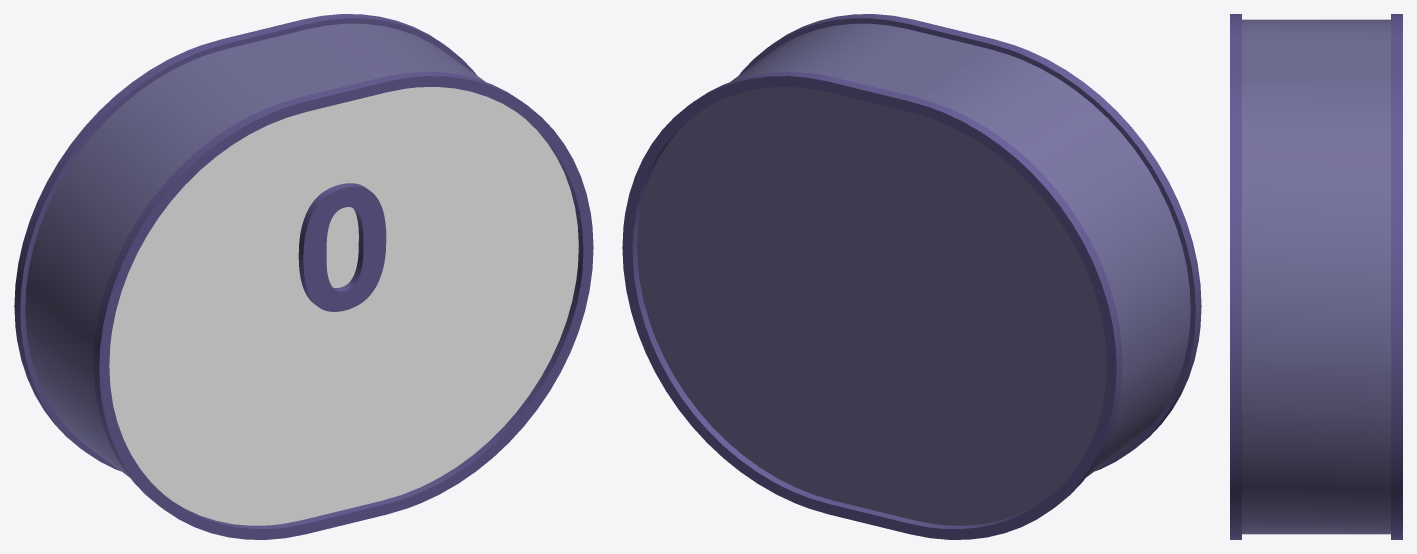
The model's file is math_number.gltf.
The picture shows the model from 3 angles, left to right: view 1: azimuth 30°, elevation 25°; view 2: azimuth 150°, elevation 25°; view 3: azimuth 270°, elevation 25°; orthographic projection.
Visible parts, largest first — view 1: Polygon, Extrude.3, Extrude.2, Extrude.1, Extrude; view 2: Extrude.3, Extrude.1, Extrude.2; view 3: Extrude.3, Extrude.2, Extrude.1.
Part boxes in pixels (x1=…): Polygon: x1=109, y1=87, x2=578, y2=525; Extrude.3: x1=25, y1=23, x2=485, y2=477; Extrude.2: x1=93, y1=72, x2=593, y2=539; Extrude.1: x1=14, y1=14, x2=476, y2=471; Extrude: x1=298, y1=183, x2=386, y2=311; Extrude.3: x1=637, y1=23, x2=1190, y2=525; Extrude.1: x1=622, y1=72, x2=1122, y2=539; Extrude.2: x1=739, y1=14, x2=1201, y2=471; Extrude.3: x1=1242, y1=19, x2=1390, y2=534; Extrude.2: x1=1230, y1=14, x2=1241, y2=539; Extrude.1: x1=1391, y1=14, x2=1402, y2=539.
Bounding box in the file's own units: 0.246 × 0.2058 × 0.0731.
